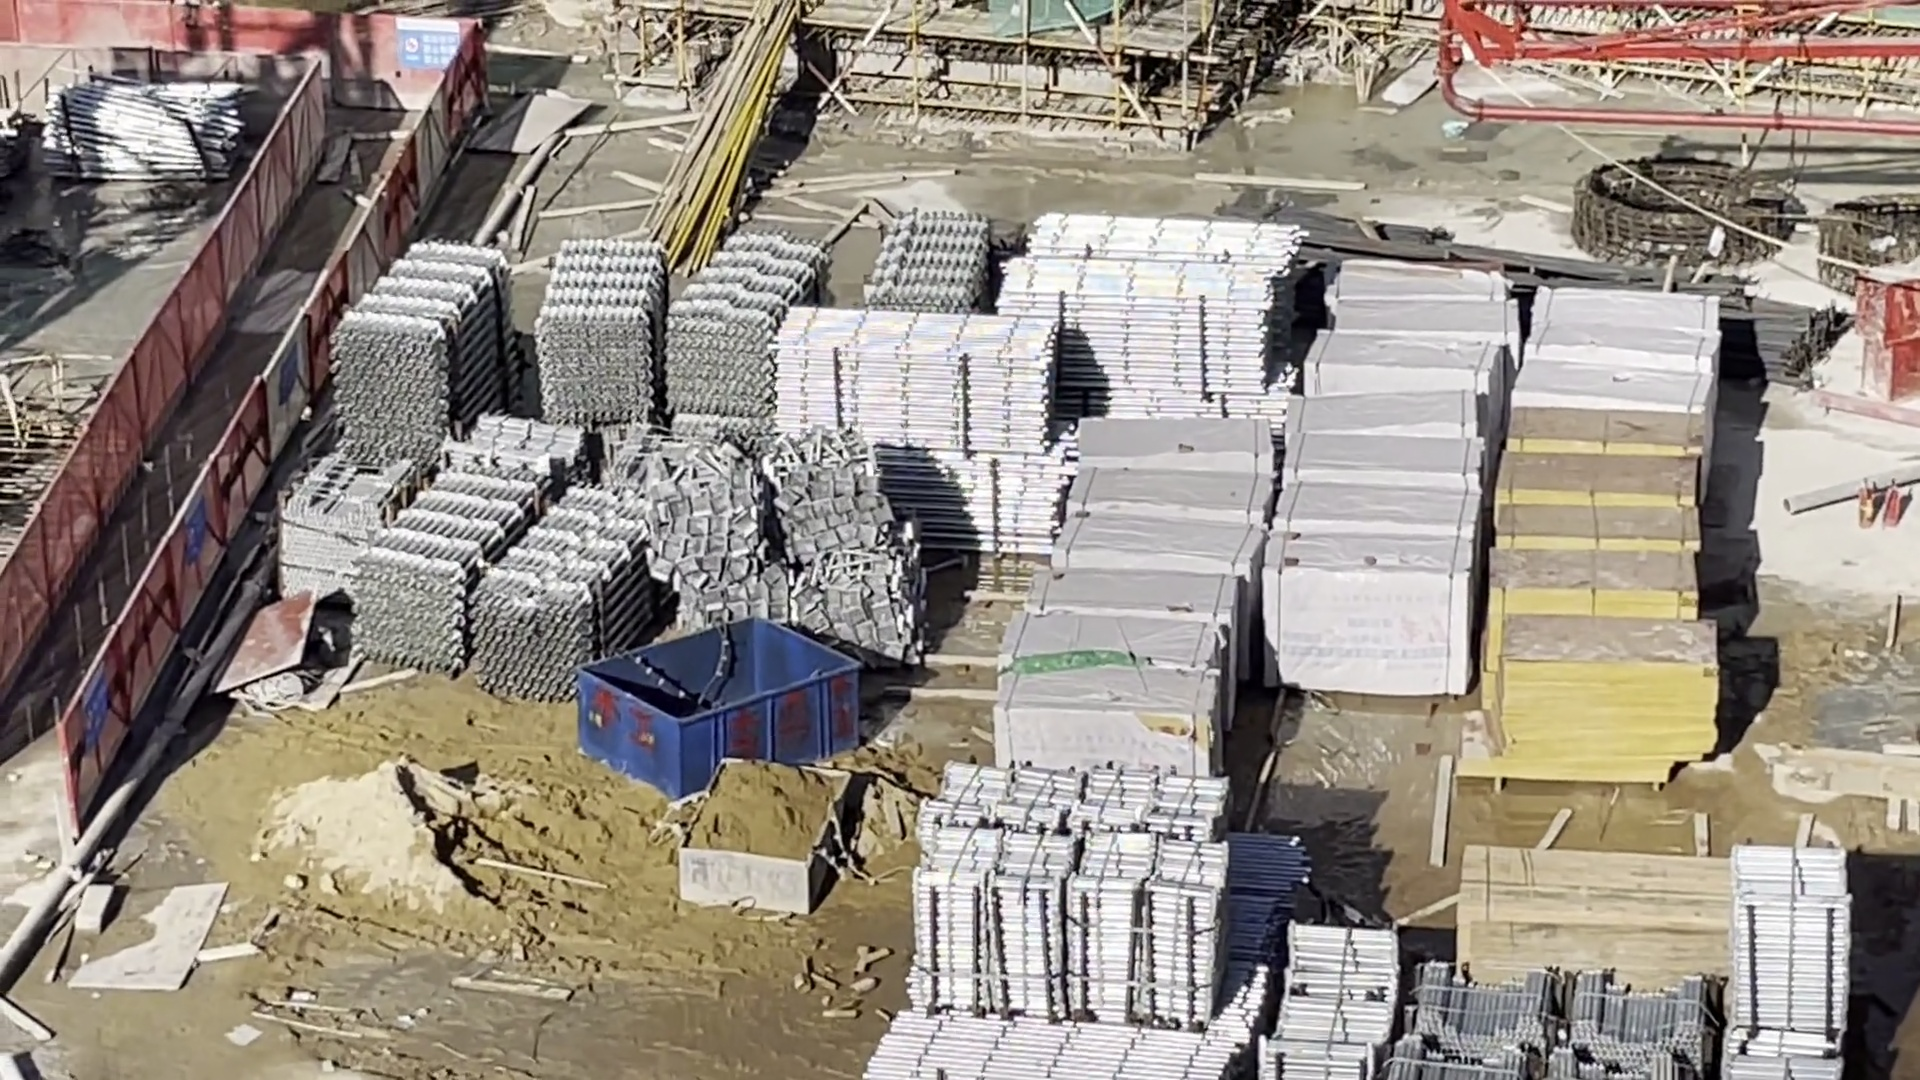board: (1491, 404, 1708, 787), (1456, 837, 1725, 981)
fence: (3, 73, 452, 771), (1, 4, 394, 109)
hopper: (575, 618, 858, 806), (674, 760, 848, 916)
rebar: (1298, 211, 1825, 378)
scaffold: (916, 771, 1220, 1022), (777, 307, 1052, 564), (1006, 208, 1296, 431), (367, 473, 651, 694), (538, 233, 831, 425), (339, 249, 509, 462), (1400, 971, 1697, 1080), (1722, 837, 1849, 1080), (858, 1011, 1225, 1080), (1255, 926, 1404, 1073), (44, 88, 240, 177), (866, 214, 990, 320)
slogan: (396, 16, 465, 69), (80, 670, 105, 756), (183, 492, 204, 572)
